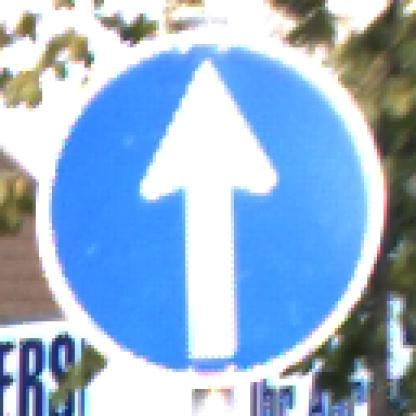AheadOnly: (40, 35, 381, 383)
